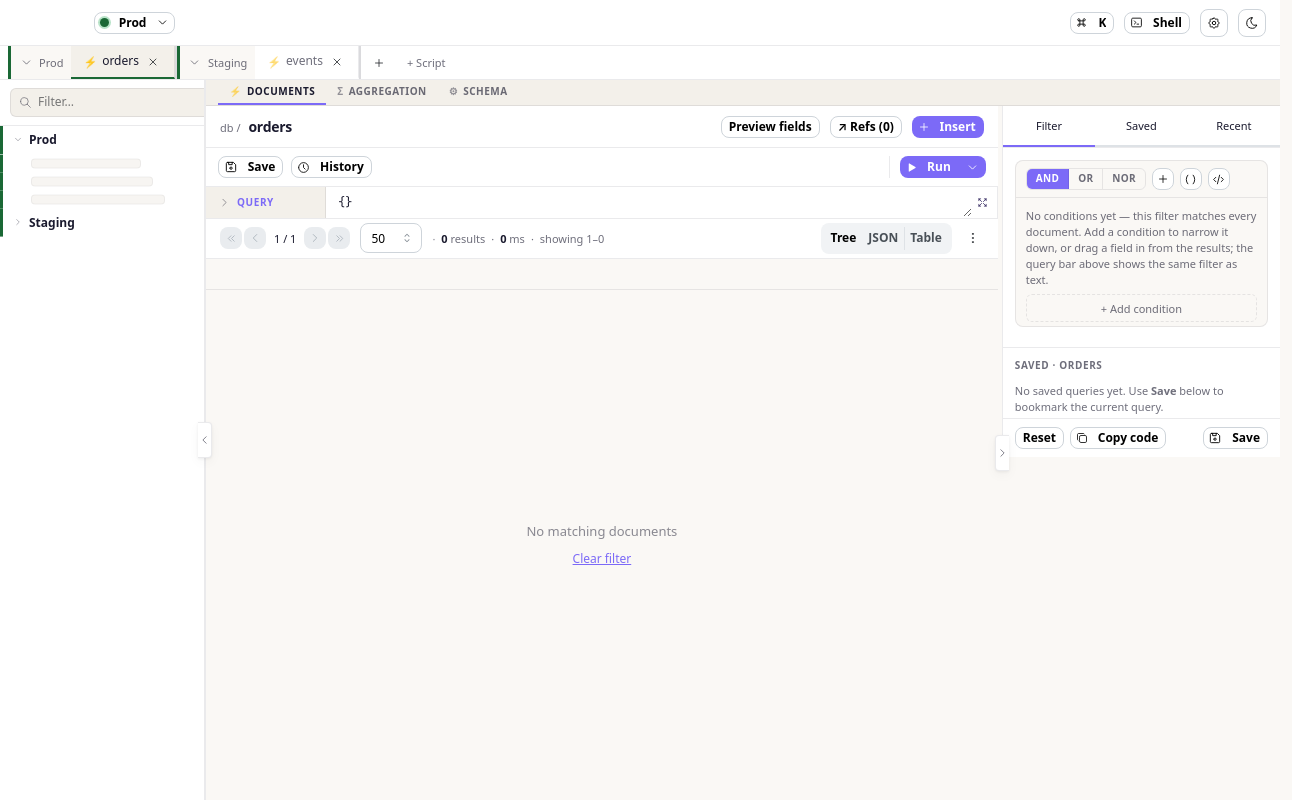
The Focused Tab’s Connection › follows the Focused Tab when it belongs to another Connection
Check: the button "Prod" is shown, box [119, 12, 146, 32]
Click the text "events" at (304, 62), box [286, 52, 323, 71]
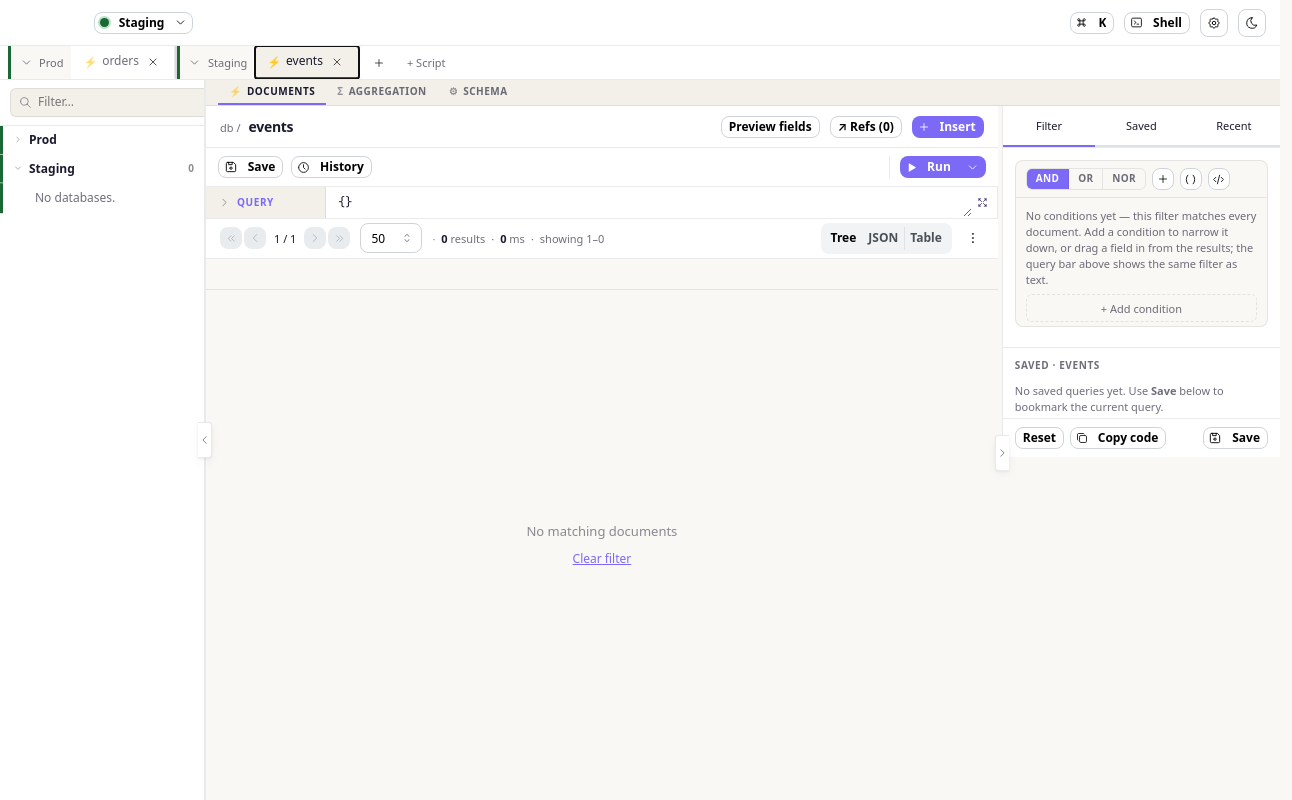
Check: the button "Staging" is shown, box [119, 12, 164, 32]
